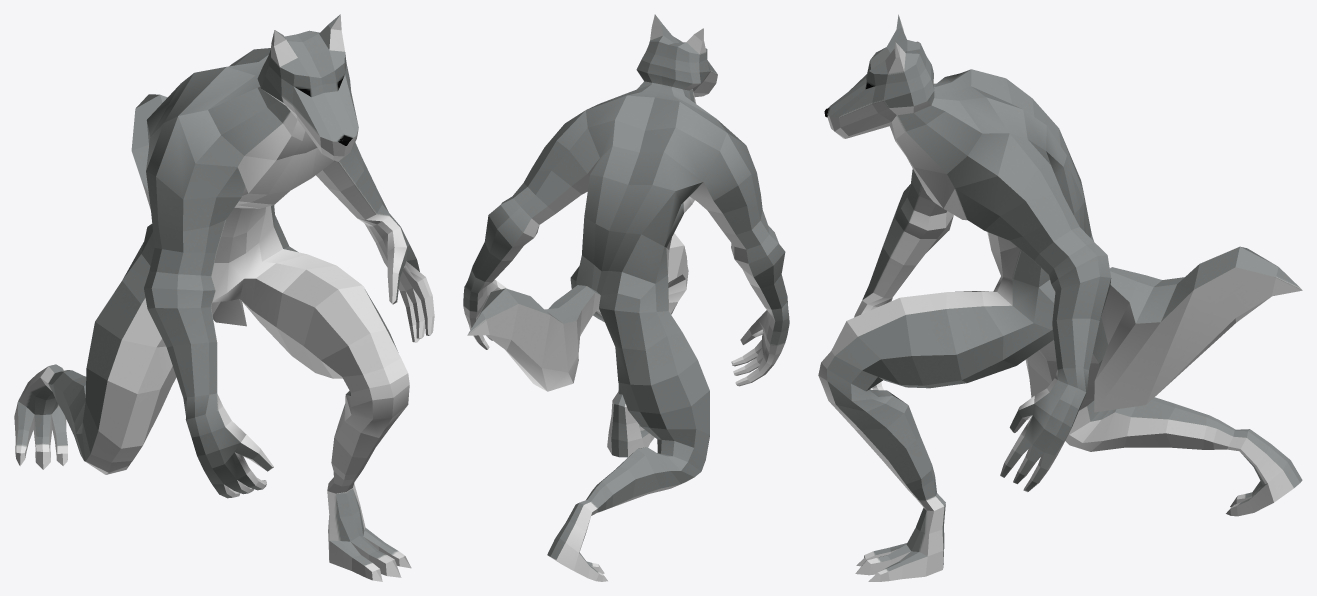
The model's file is WolfWalk(12).obj.
3 renders of one model, left to right at view 1: azimuth 30°, elevation 25°; view 2: azimuth 150°, elevation 25°; view 3: azimuth 270°, elevation 25°, orthographic. The views are drawn at different scales.
Parts seen in each view (by area): view 1: Box001; view 2: Box001; view 3: Box001.
Part boxes in pixels (x1,y1,x2,y2): Box001: (14,14,434,581); Box001: (463,14,789,581); Box001: (818,14,1302,581).
Size of the model in its own units: 76.58 by 123 by 104.
